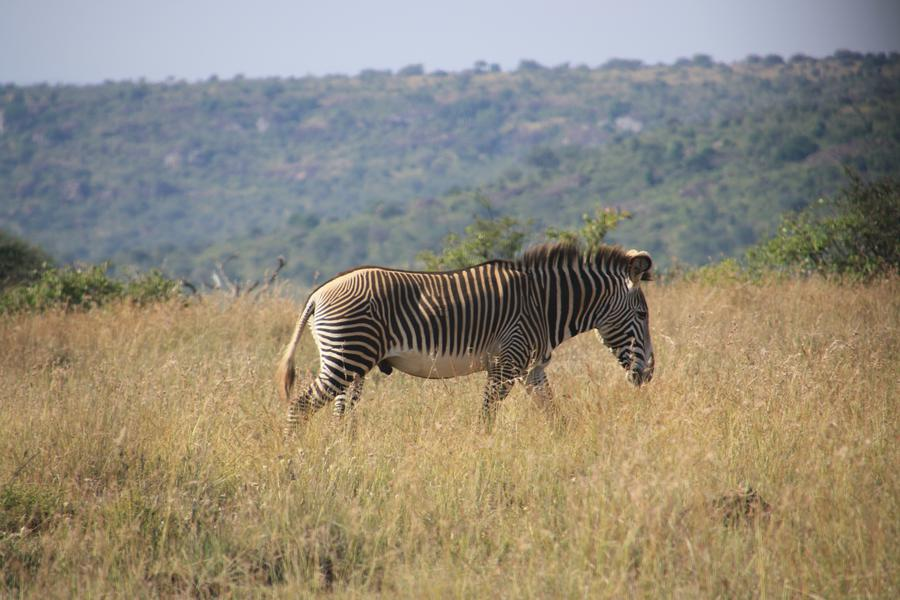zebra_grevys: (308, 267, 556, 360)
